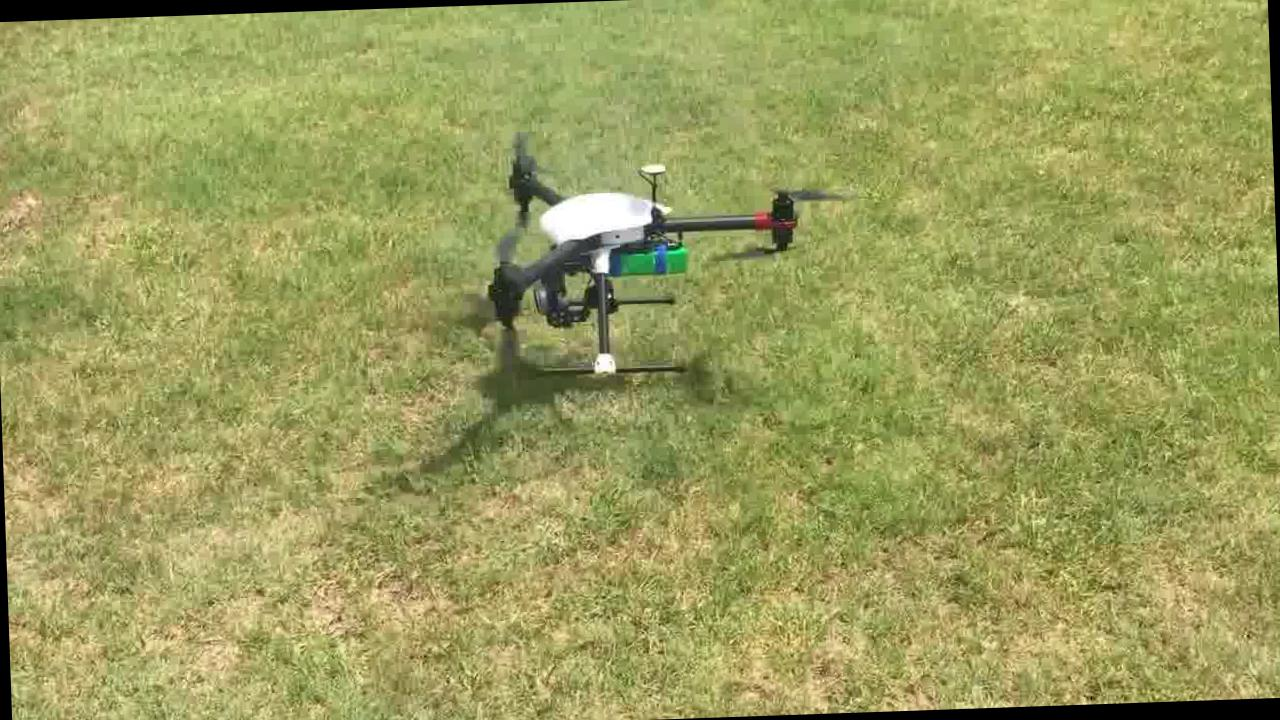drone: (482, 118, 832, 386)
